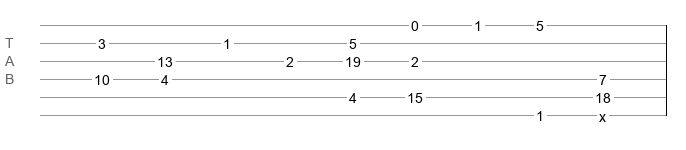0: (411, 18, 419, 28)
1: (223, 36, 231, 46), (474, 18, 482, 28), (536, 108, 544, 118)
10: (94, 72, 110, 82)
13: (157, 54, 173, 64)
15: (407, 90, 423, 100)
18: (595, 90, 611, 100)
19: (345, 54, 361, 64)
2: (286, 54, 294, 64), (411, 54, 419, 64)
3: (98, 36, 106, 46)
4: (161, 72, 169, 82), (349, 90, 357, 100)
5: (349, 36, 357, 46), (536, 18, 544, 28)
7: (599, 72, 607, 82)
x: (599, 109, 606, 117)
